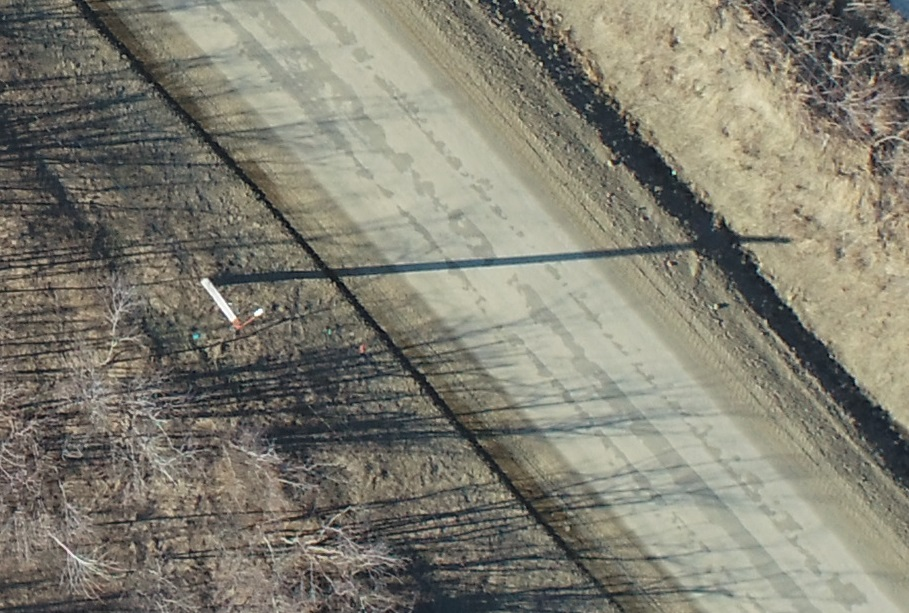opora: (198, 254, 306, 335)
